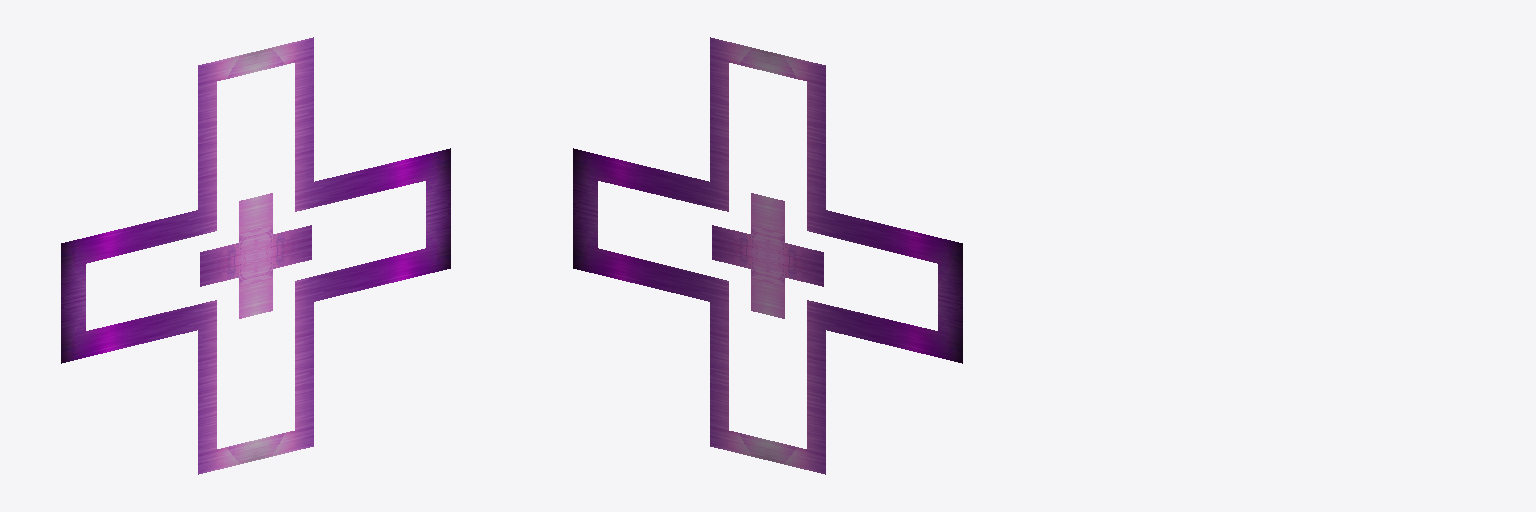
3 renders of one model, left to right at view 1: azimuth 30°, elevation 25°; view 2: azimuth 150°, elevation 25°; view 3: azimuth 270°, elevation 25°, orthographic.
Visible parts, largest first — view 1: Heal_Plane.011; view 2: Heal_Plane.011; view 3: none.
Boxes of the visible parts, x1=… form: Heal_Plane.011: x1=61, y1=37, x2=450, y2=474; Heal_Plane.011: x1=573, y1=37, x2=962, y2=474.
Bounding box in the file's own units: 0.0185 × 0.0185 × 0.
1 materials, 1 textured.